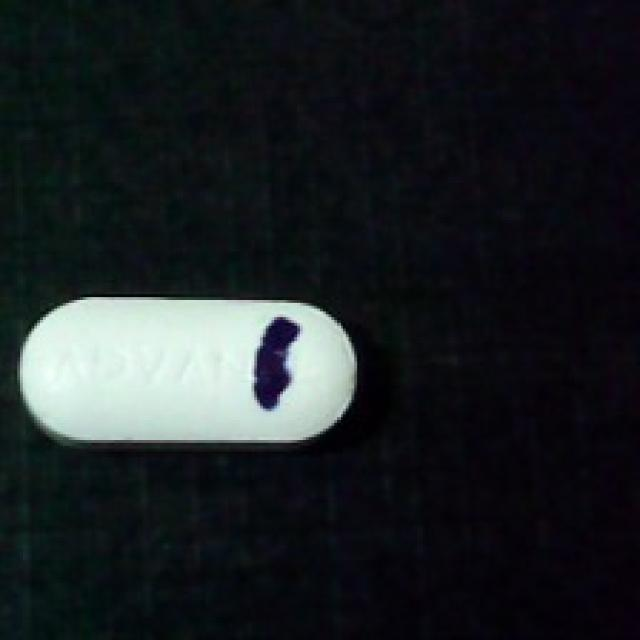defected: (17, 291, 369, 454)
